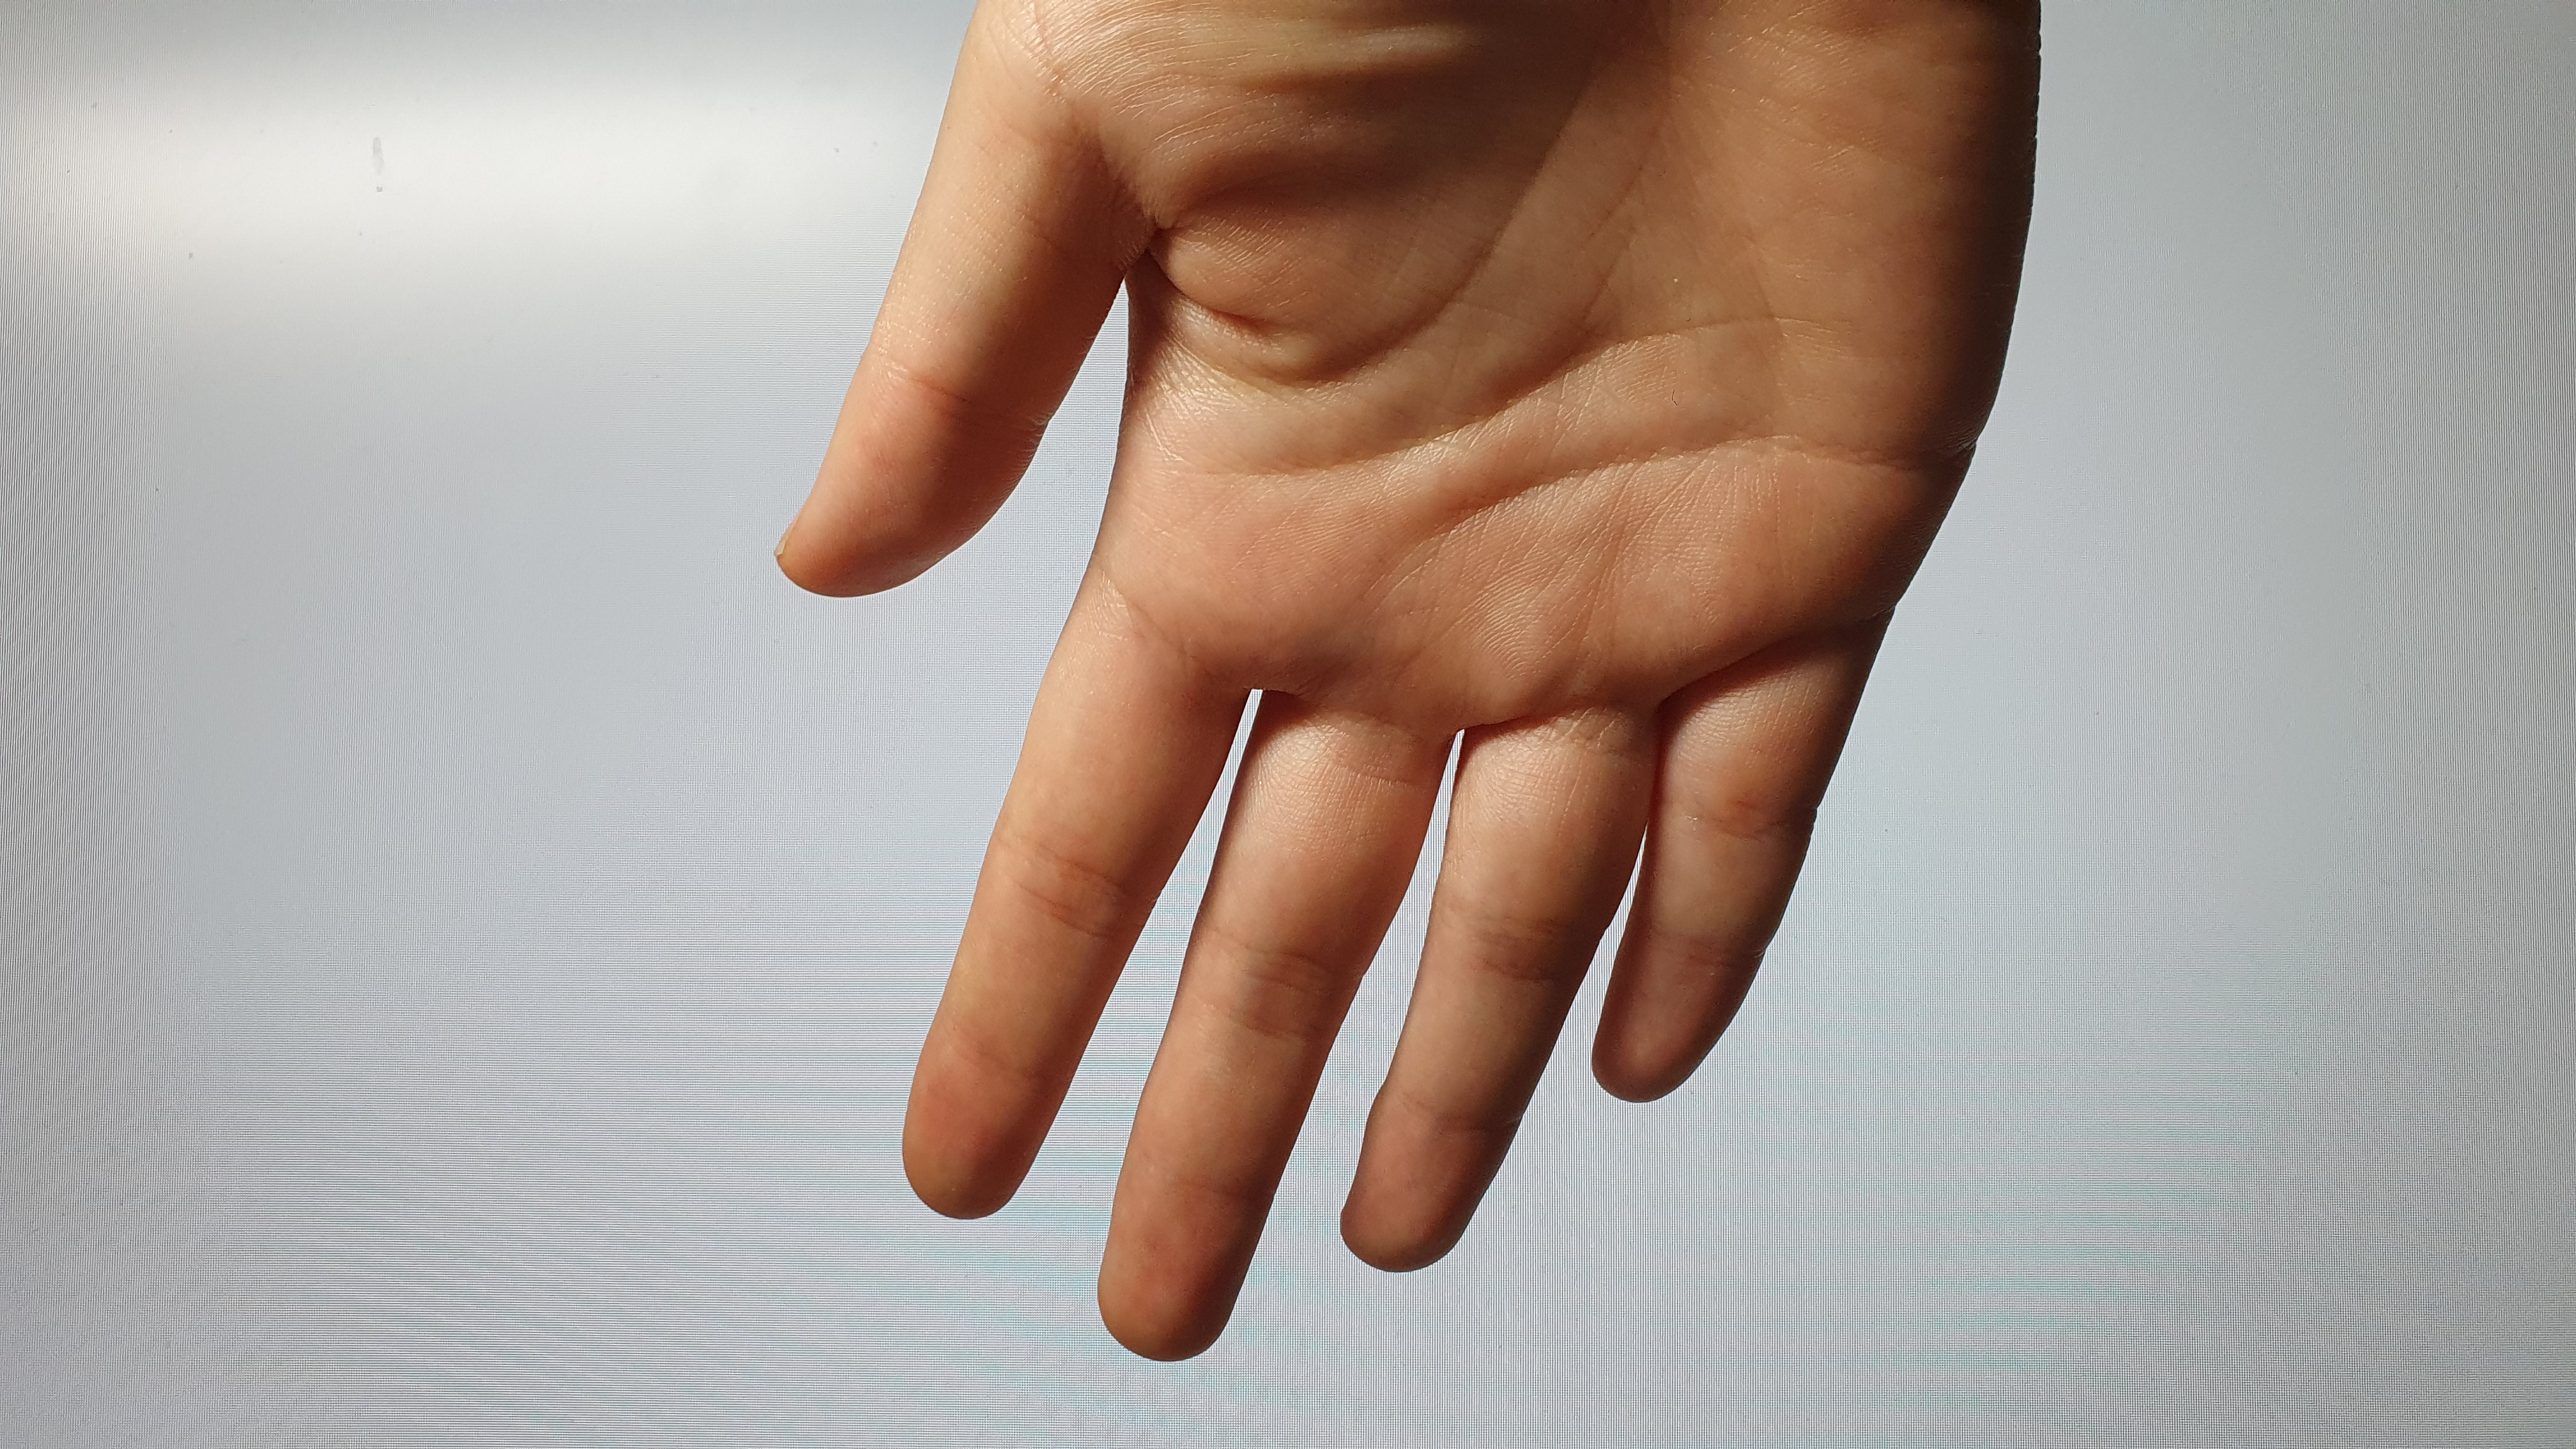hand: (754, 0, 2042, 1368)
index finger: (885, 625, 1226, 1215)
middle finger: (1095, 695, 1463, 1371)
palm: (1065, 0, 1990, 690)
pinky: (1594, 635, 1865, 1131)
ring finger: (1338, 711, 1670, 1292)
thumb: (766, 136, 1138, 621)
